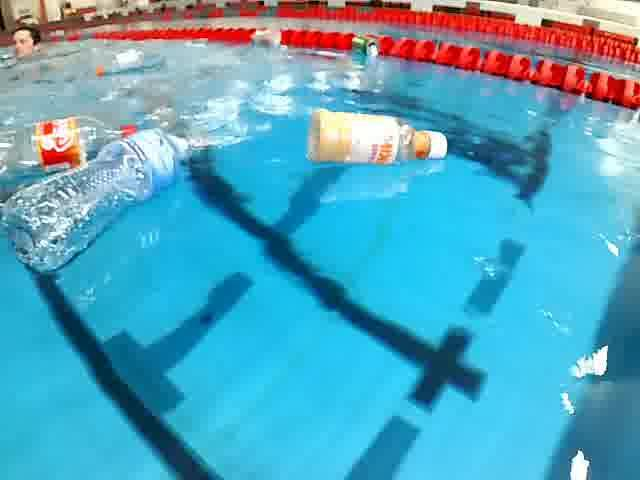Bottle: (0, 129, 197, 277), (303, 101, 455, 171), (0, 110, 147, 181), (91, 44, 160, 82)
Can: (350, 34, 386, 60)
